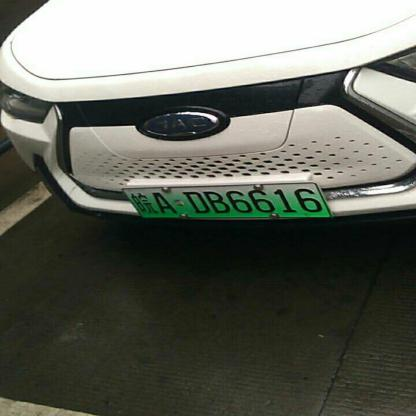lp: (122, 183, 332, 218)
